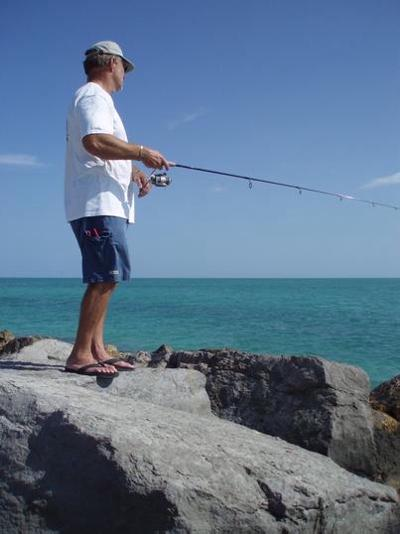person: (65, 39, 171, 377)
